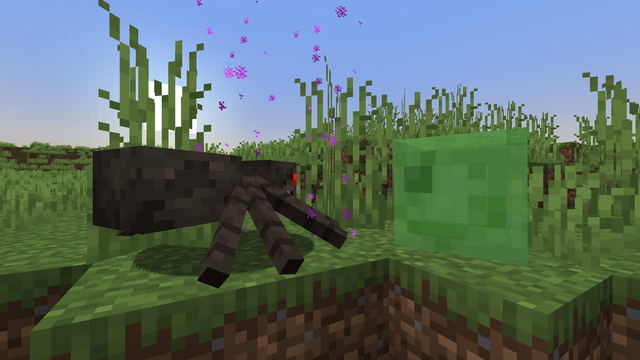araignees: (130, 130, 335, 288)
slimes: (386, 121, 551, 266)
